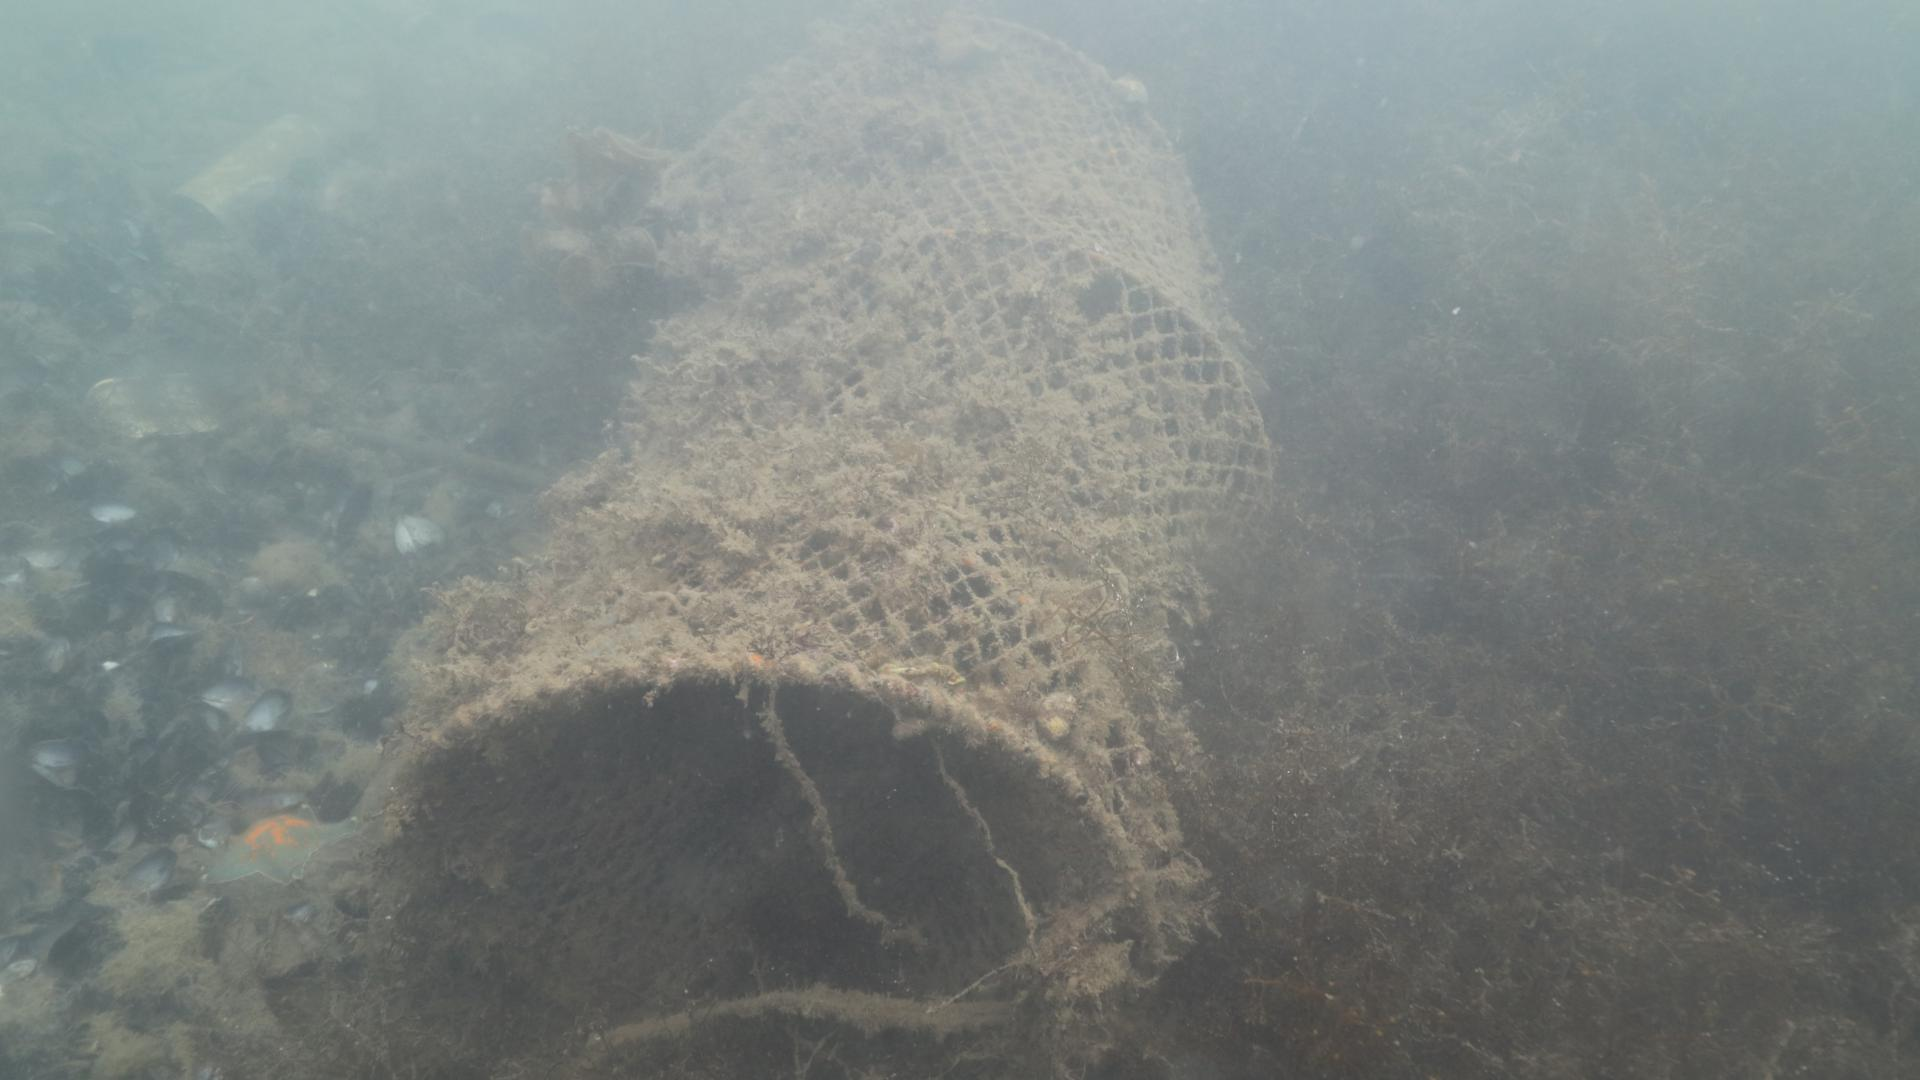spring fish trap: (357, 18, 1276, 1080)
